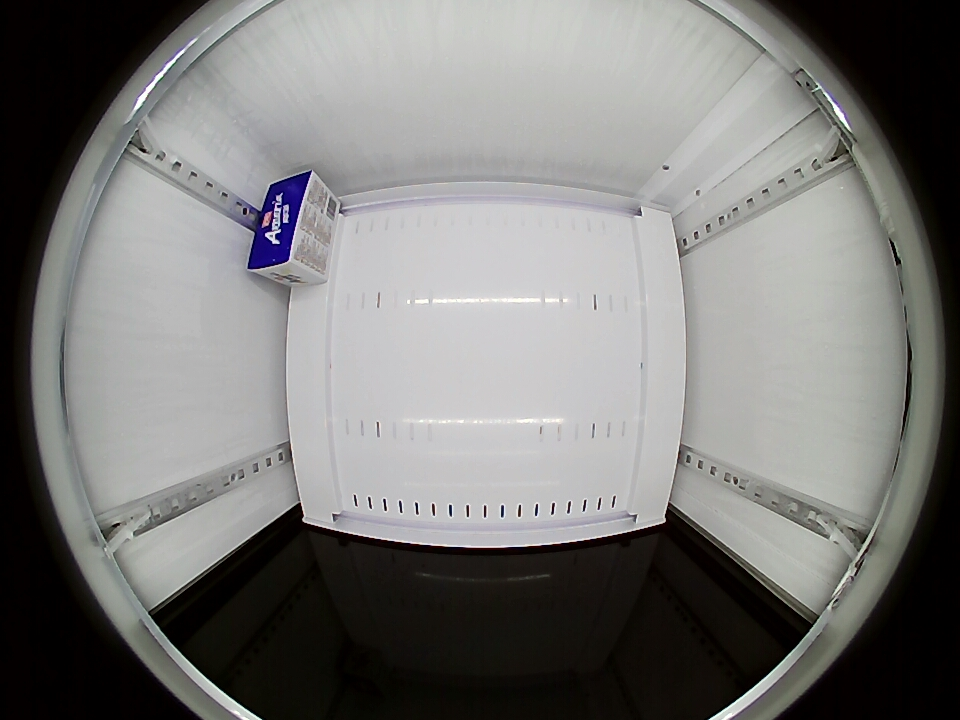meiniye: (247, 170, 325, 279)
